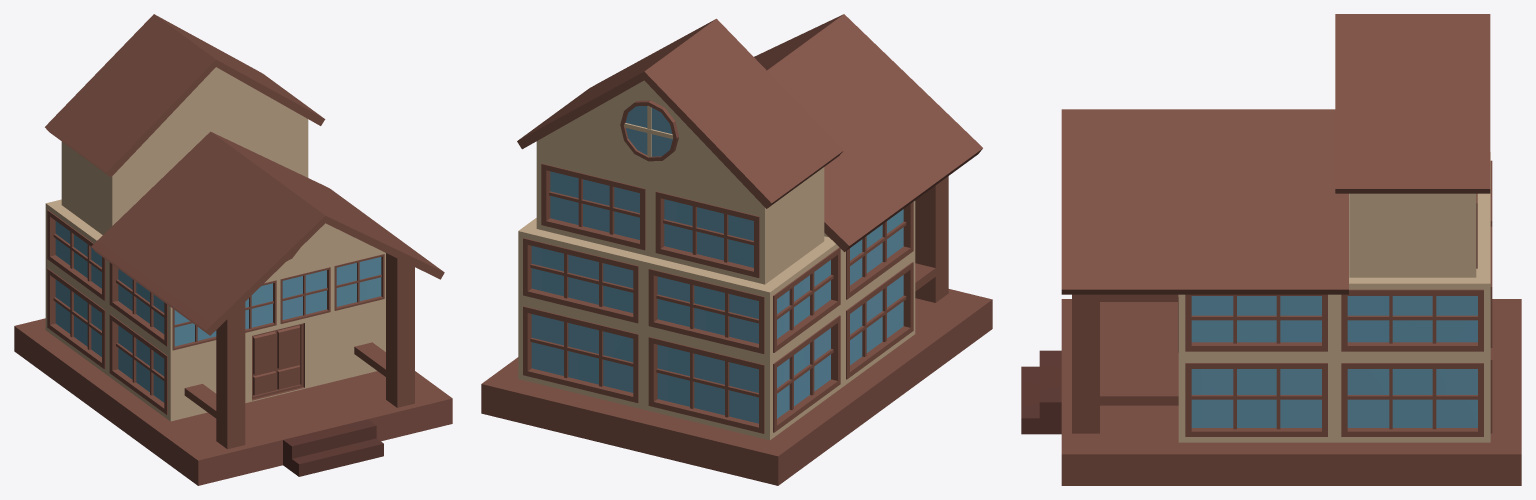
The model's file is suburban-house-C.fbx.
3 views of the same model, side by side, from view 1: azimuth 30°, elevation 25°; view 2: azimuth 150°, elevation 25°; view 3: azimuth 270°, elevation 25° (orthographic). The views are drawn at different scales.
Parts seen in each view (by area): view 1: suburban-house-C; view 2: suburban-house-C; view 3: suburban-house-C.
Boxes of the visible parts, x1,y1,x2,y2 form: suburban-house-C: (14, 14, 452, 485); suburban-house-C: (481, 14, 992, 485); suburban-house-C: (1021, 14, 1521, 485).
Bounding box in the file's own units: 830 × 983 × 1129.
1 material, 1 textured.
